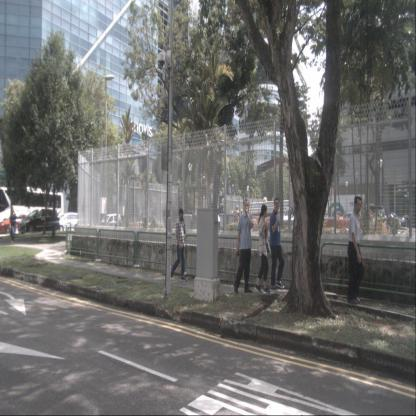human-pedestrian-adult: (233, 199, 254, 294), (347, 196, 364, 305), (254, 204, 272, 294), (270, 197, 285, 292), (170, 208, 187, 281), (9, 206, 19, 245)
vehicle-bus-rigid: (0, 187, 64, 232)
vehicle-car: (18, 208, 60, 234), (356, 205, 388, 231), (0, 213, 32, 235), (55, 212, 84, 233), (98, 212, 122, 233), (342, 212, 366, 228), (282, 207, 300, 227)
